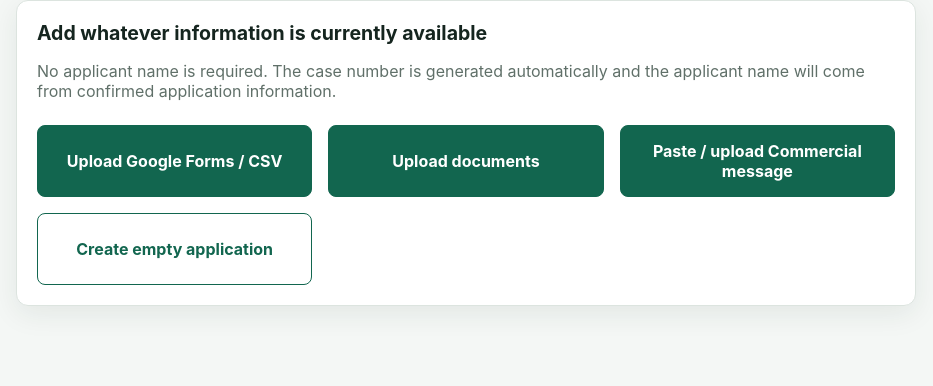
Test: shows creation errors
Step 1. Click the button "Create empty application" → (175, 249), box 37,213 -> 312,285
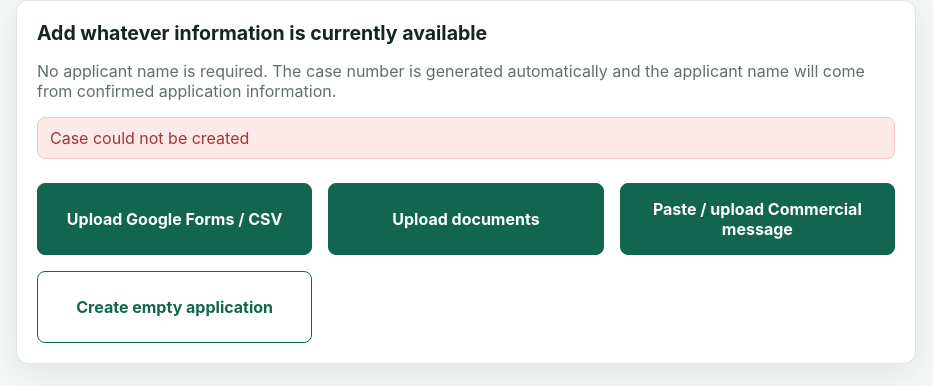
Expected: the message reads "Case could not be created", 50,128 -> 249,148
